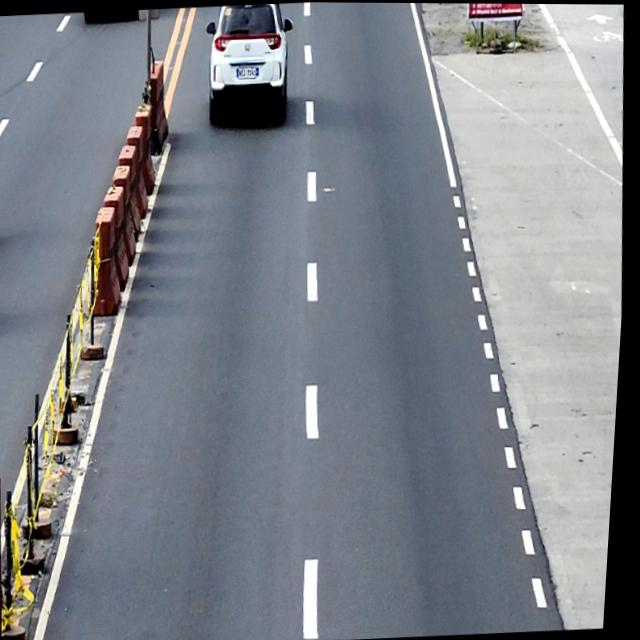Car: (201, 2, 299, 126)
License-Plate: (236, 63, 262, 79)
